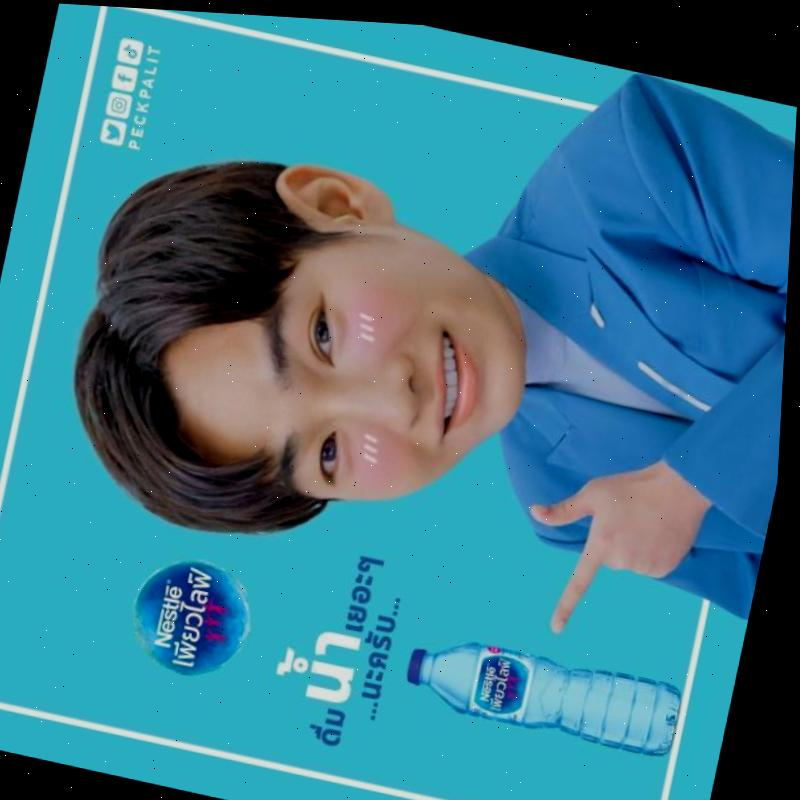botella: (404, 622, 694, 751)
